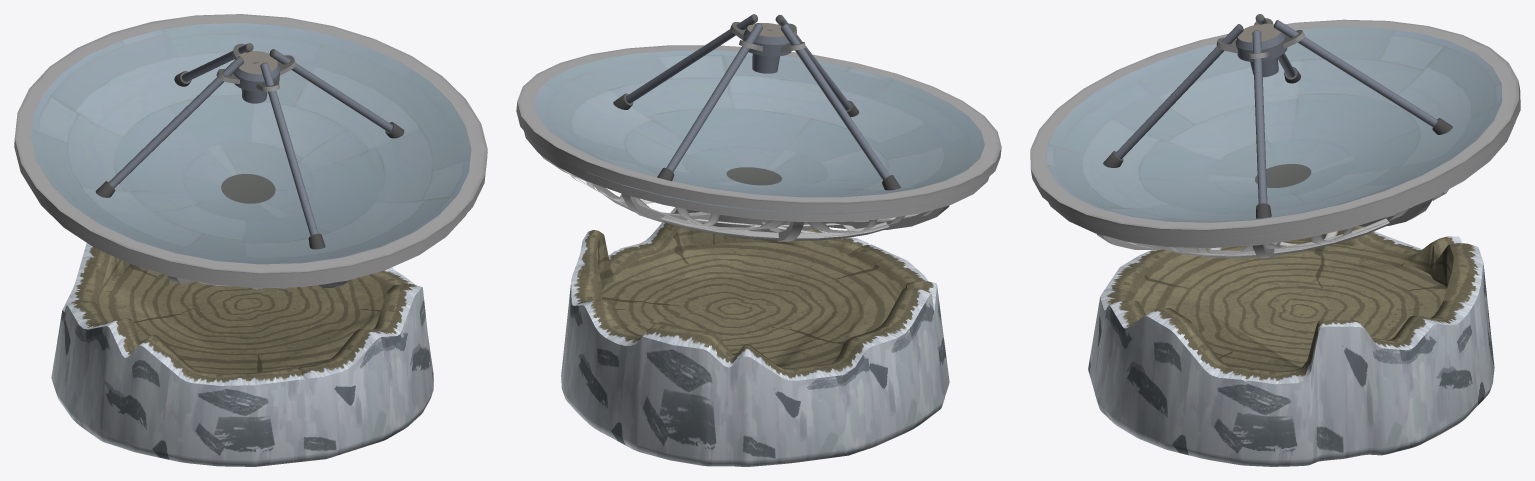
File: Treetop Diorama.fbx
The picture shows the model from 3 angles, left to right: view 1: azimuth 30°, elevation 25°; view 2: azimuth 150°, elevation 25°; view 3: azimuth 270°, elevation 25°; orthographic projection. The views are drawn at different scales.
Parts seen in each view (by area): view 1: BP Diorama; view 2: BP Diorama; view 3: BP Diorama.
Part boxes in pixels (bbox=[...]): BP Diorama: bbox=[14, 14, 487, 466]; BP Diorama: bbox=[516, 14, 1001, 466]; BP Diorama: bbox=[1030, 14, 1520, 466].
Bounding box in the file's own units: 1330 × 1089 × 1319.
